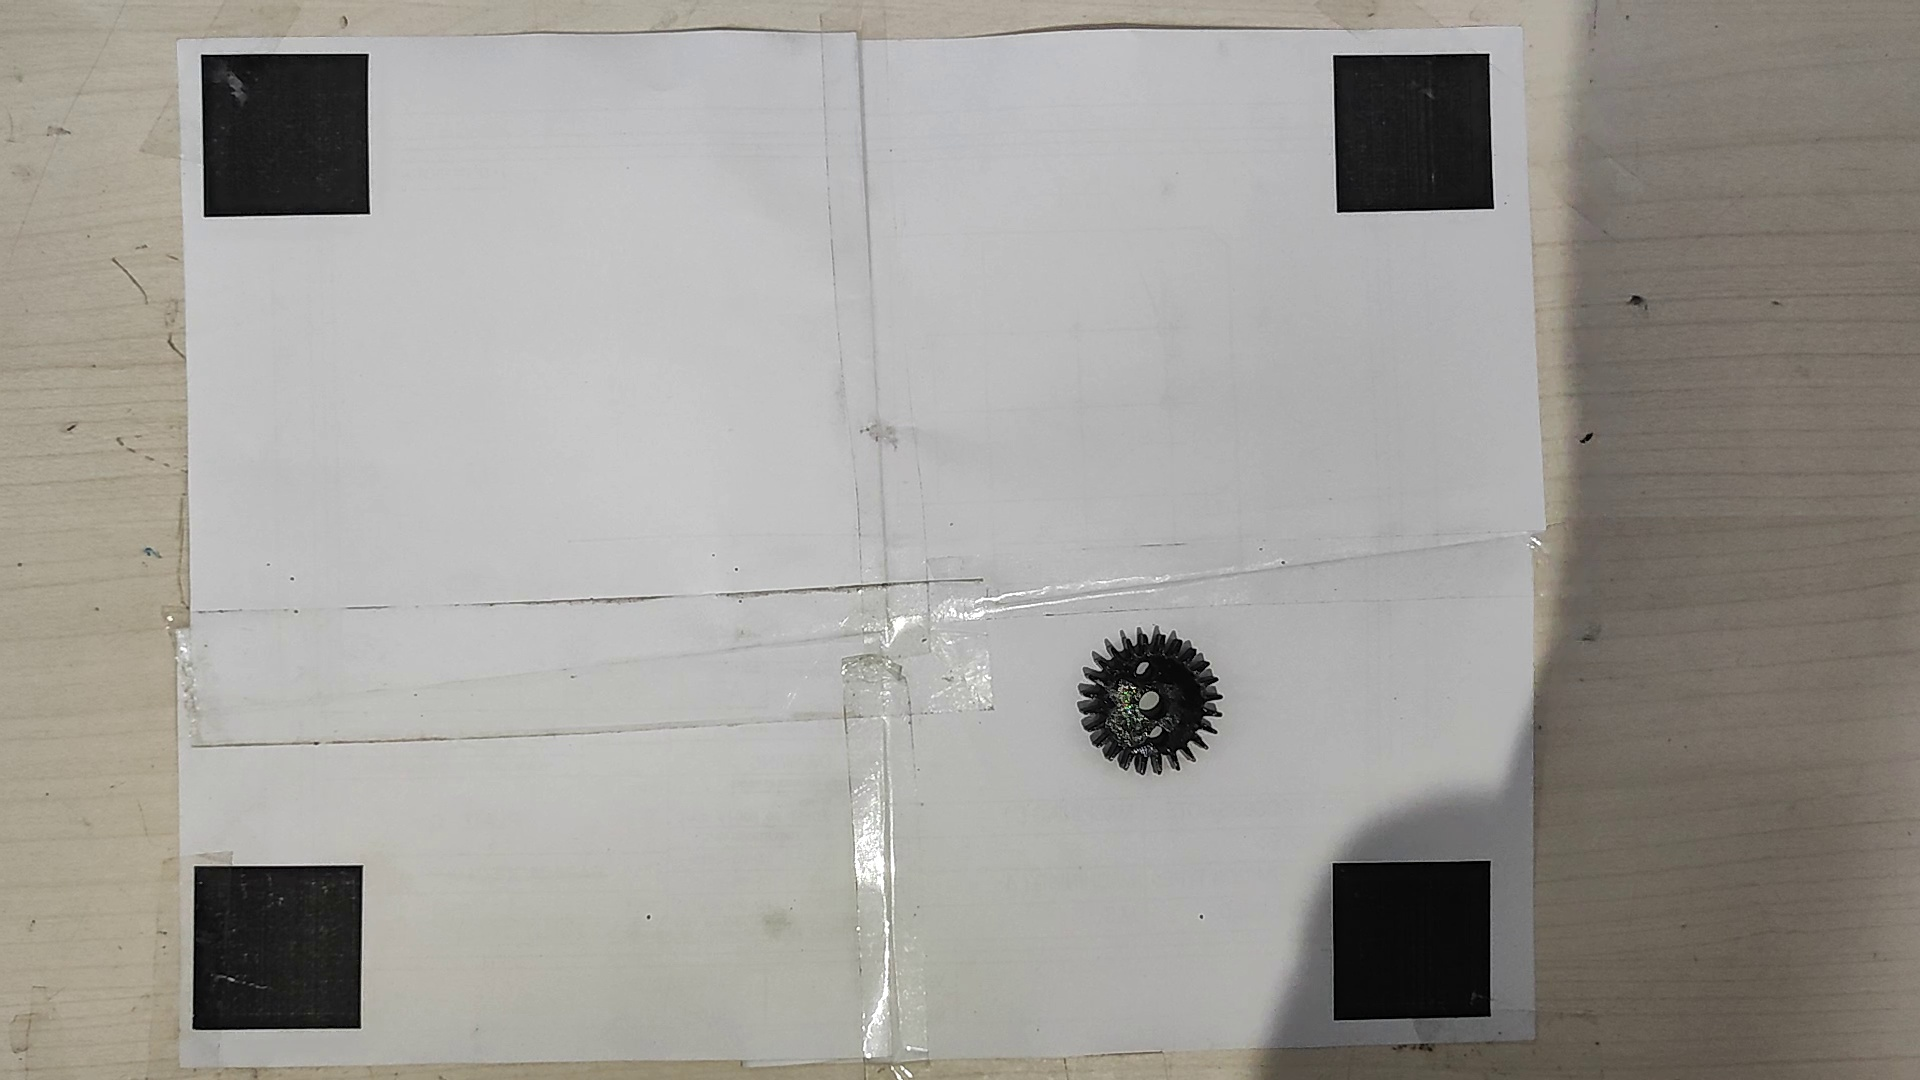Gear: (1073, 626, 1225, 779)
